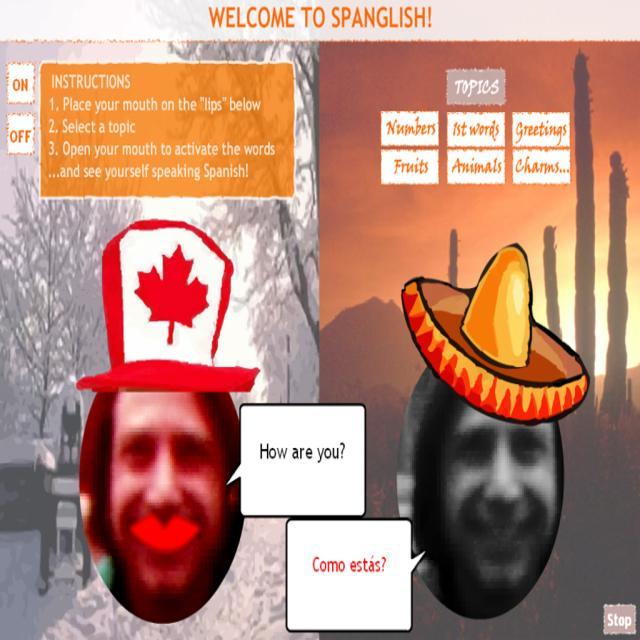Hat: (401, 242, 591, 425), (74, 218, 260, 394)
